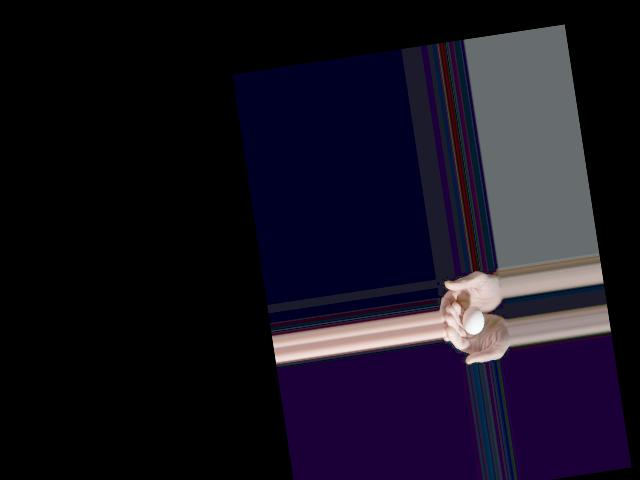egg: (460, 305, 486, 336)
